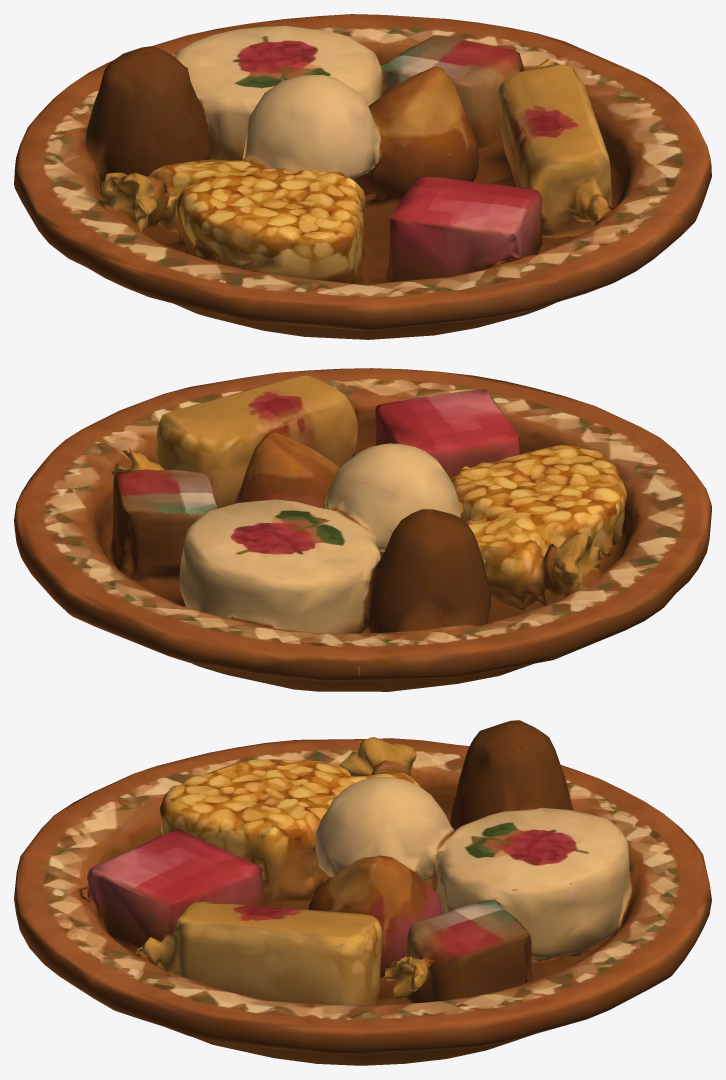
Rendered from dulces-optimized.glb.
3 views of the same model, one above another, from view 1: azimuth 30°, elevation 25°; view 2: azimuth 150°, elevation 25°; view 3: azimuth 270°, elevation 25° (orthographic).
Visible parts, largest first — view 1: Mesh_0; view 2: Mesh_0; view 3: Mesh_0.
Part boxes in pixels (x1,y1,x2,y2): Mesh_0: [14, 14, 711, 339]; Mesh_0: [14, 368, 711, 691]; Mesh_0: [14, 720, 711, 1065].
Bounding box in the file's own units: 0.433 × 0.12 × 0.4313.
1 material, 1 textured.
